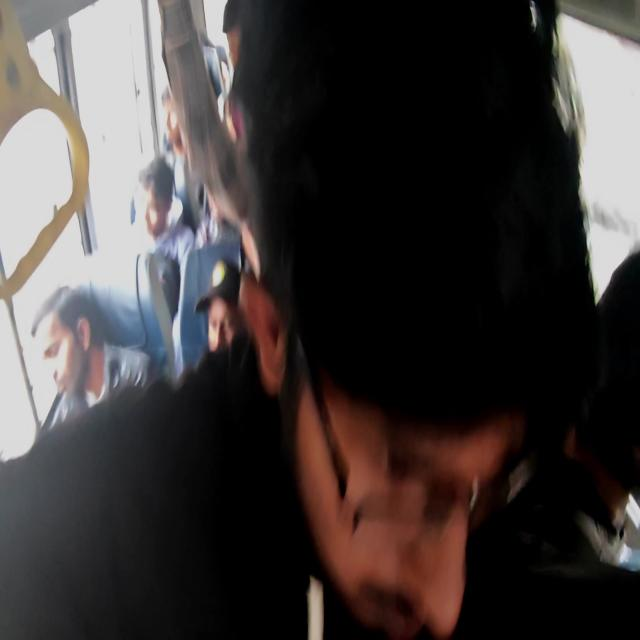person: (268, 25, 545, 636), (600, 270, 639, 640), (32, 313, 94, 423), (210, 262, 260, 390), (130, 154, 172, 237), (202, 159, 234, 214), (150, 94, 187, 138)
